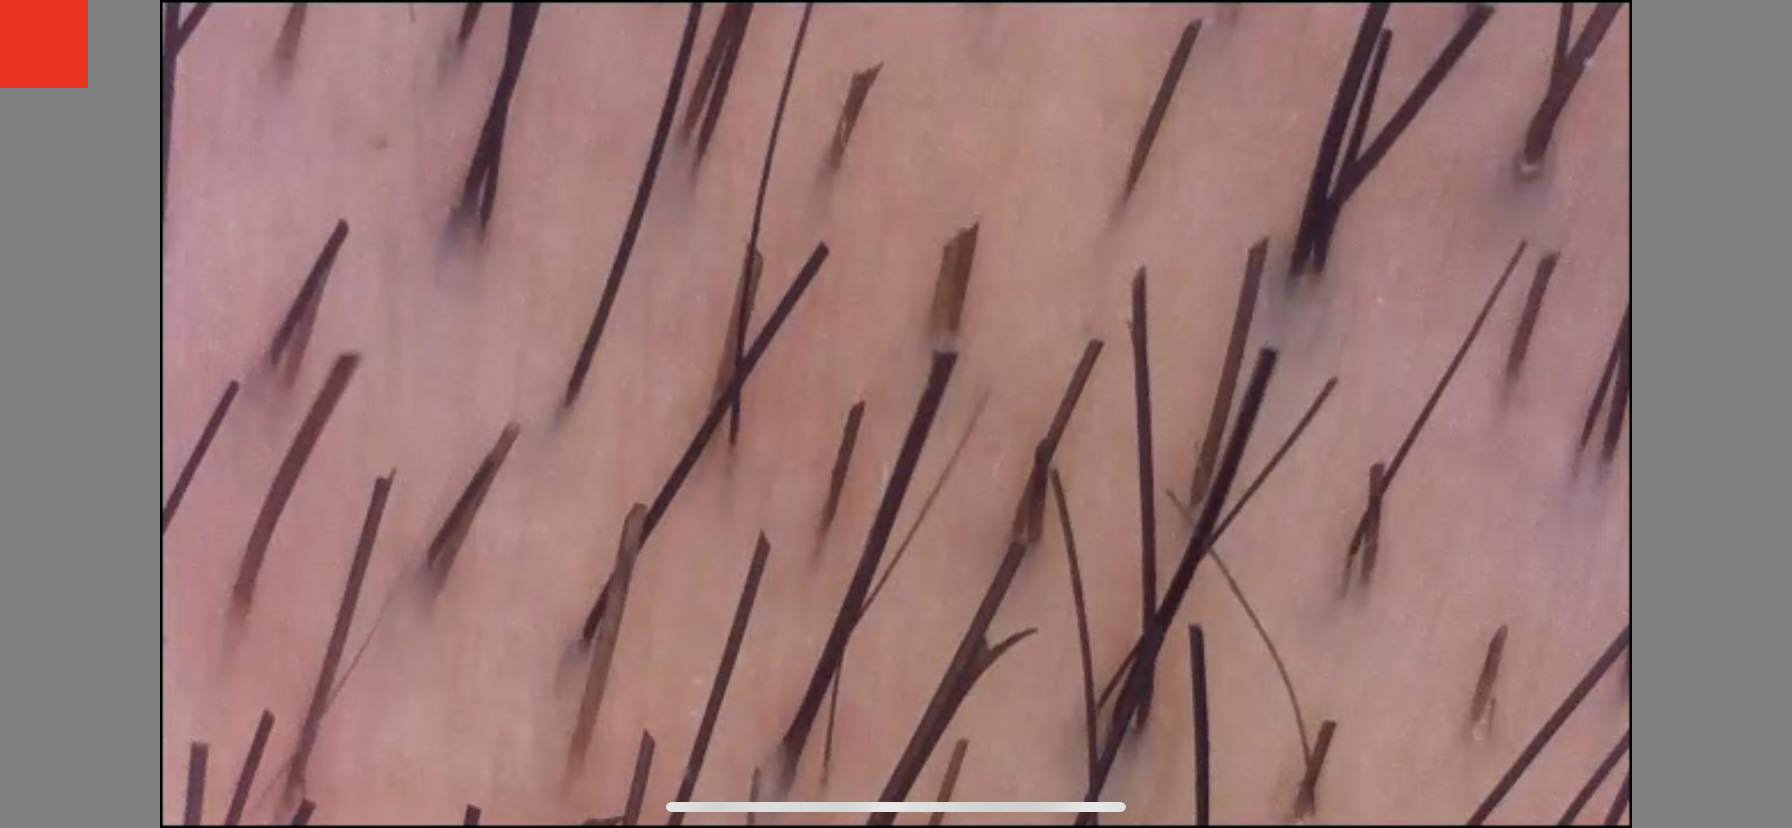FALSE: (927, 206, 995, 272), (835, 42, 898, 103), (795, 217, 851, 279), (313, 198, 370, 252), (1231, 218, 1284, 274), (620, 716, 675, 766), (358, 453, 410, 505), (485, 401, 540, 452), (830, 379, 886, 428), (238, 688, 290, 740), (1113, 251, 1166, 301), (1245, 335, 1297, 385), (323, 333, 376, 382), (608, 487, 663, 534), (1067, 322, 1116, 374), (445, 784, 501, 828), (1306, 700, 1355, 749), (1011, 608, 1060, 656), (1173, 606, 1221, 653), (174, 719, 219, 769), (740, 515, 786, 563), (1351, 446, 1400, 491), (731, 229, 778, 274), (1311, 359, 1358, 404), (1173, 7, 1218, 48), (1364, 17, 1412, 56), (941, 729, 986, 767), (288, 791, 336, 828), (367, 582, 409, 621), (213, 370, 252, 407)
TRUE: (406, 541, 471, 603), (443, 192, 504, 247), (210, 575, 266, 634), (1278, 240, 1339, 291), (1483, 352, 1543, 404), (1322, 559, 1381, 611), (672, 121, 724, 177), (1503, 143, 1560, 194), (917, 296, 973, 348), (1280, 776, 1335, 828), (763, 741, 810, 800), (253, 343, 307, 393), (1098, 174, 1151, 225), (545, 748, 604, 792), (793, 511, 850, 556), (544, 379, 593, 429), (813, 144, 864, 190), (1114, 700, 1166, 744), (1552, 420, 1600, 467), (271, 756, 320, 800), (1454, 713, 1505, 755), (1003, 506, 1050, 548), (557, 613, 597, 660), (803, 764, 852, 802), (1078, 687, 1118, 728), (1177, 477, 1218, 516), (265, 39, 307, 77), (716, 423, 753, 465), (445, 27, 483, 60)
